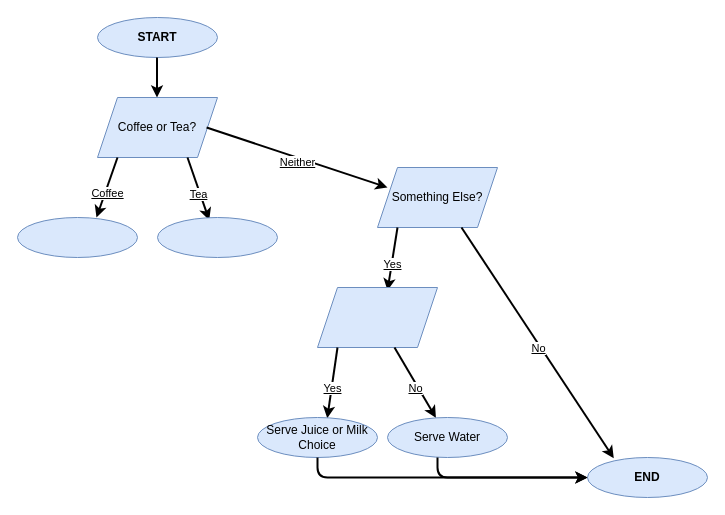
The diagram is 725 pixels wide and 515 high, and some of its shapes have lost their labels. The shapes that lost their labels are listed below. From the top down, each one's centre as x and y in pixels, then its label:
At (x=77, y=237): "Serve Latte".
At (x=217, y=237): "Serve Green Tea".
At (x=377, y=317): "Juice or Milk?".
